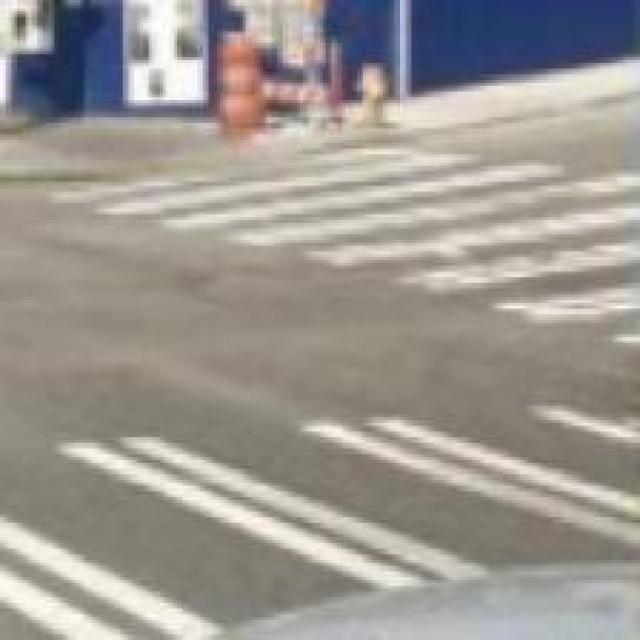walk-crossing: (43, 146, 640, 340)
